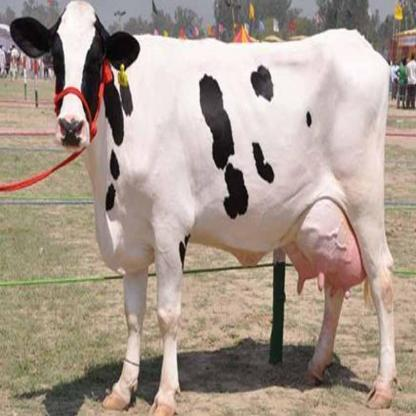cow: (9, 0, 398, 416)
